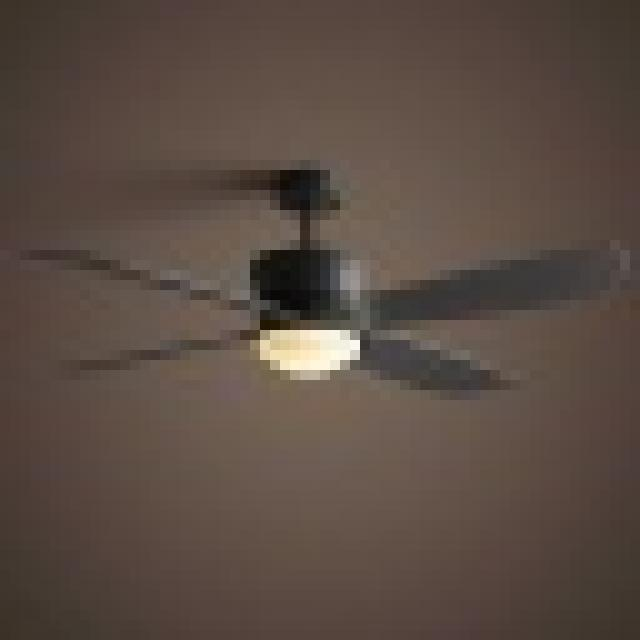fan_off: (44, 189, 616, 398)
